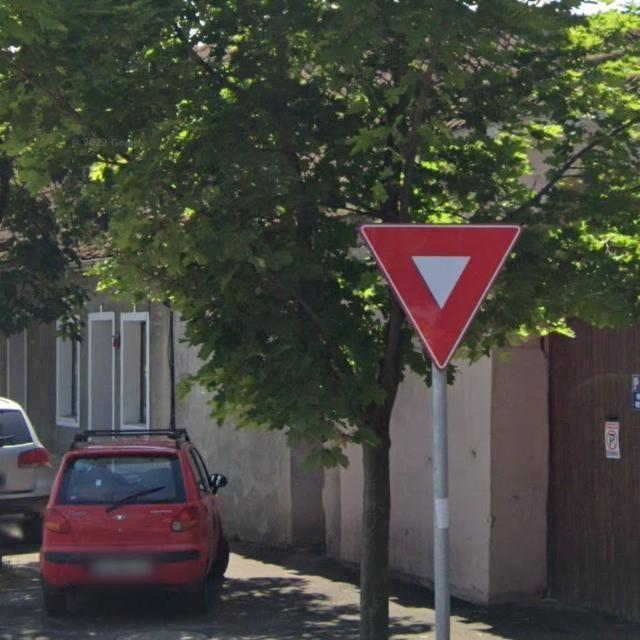prio_give_way: (356, 222, 519, 374)
